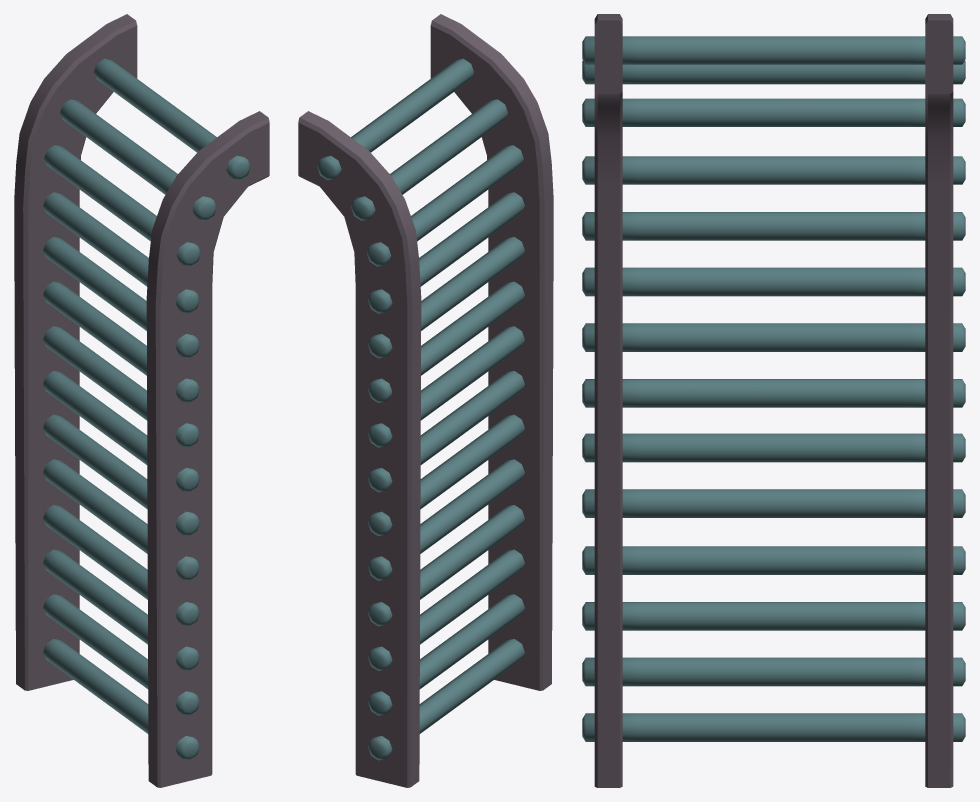
The model's file is GB_129_ladder_var03_var04.glb.
3 views of the same model, side by side, from view 1: azimuth 30°, elevation 25°; view 2: azimuth 150°, elevation 25°; view 3: azimuth 270°, elevation 25° (orthographic). The views are drawn at different scales.
Visible parts, largest first — view 1: Ladder129Var0304; view 2: Ladder129Var0304; view 3: Ladder129Var0304.
Boxes of the visible parts, left/top/right/bottom form: Ladder129Var0304: left=14, top=14, right=269, bottom=787; Ladder129Var0304: left=298, top=14, right=553, bottom=787; Ladder129Var0304: left=582, top=14, right=965, bottom=787.
Size of the model in its own units: 0.4723 by 2.57 by 1.11.
